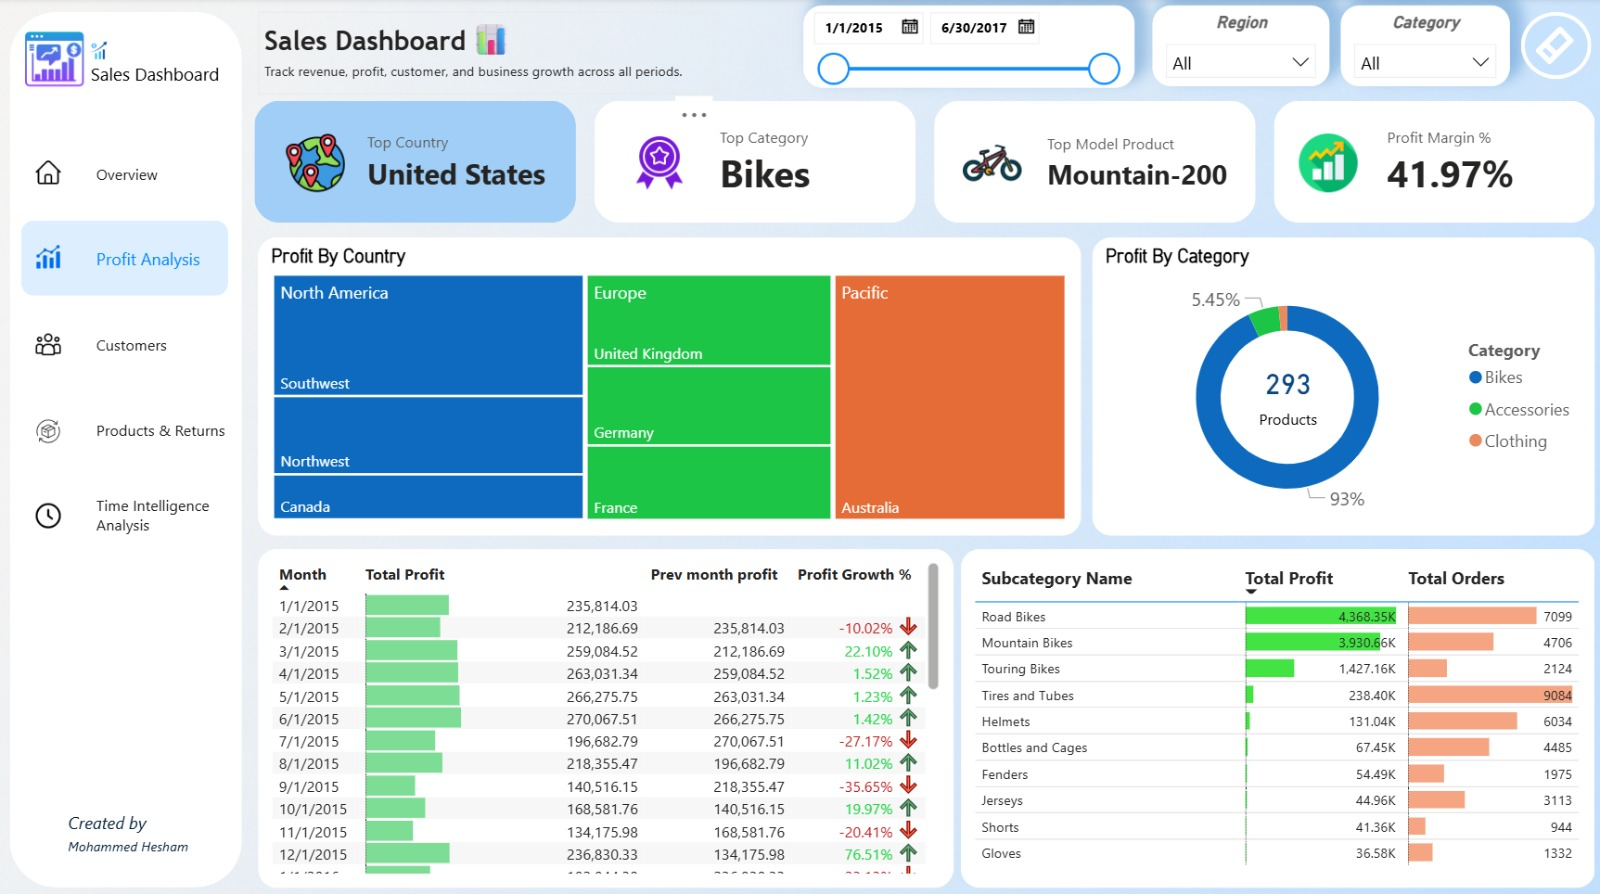

The page's visual inventory and layout, read from the dashboard file:
{"tool":"powerbi","page":{"name":"Profit Analysis","canvas":[1280,720],"ordinal":1},"visuals":[{"type":"shape","box":[8,12.1,185.1,698.9],"z":0},{"type":"cardVisual","fields":{"Data":["Sales.Top Country","Calendar.Top Category","Calendar.Top Product","Sales.Profit Margin"]},"box":[193.2,77.8,1088,107.3],"z":1000},{"type":"pageNavigator","box":[8,109.7,174.4,335.4],"z":2000},{"type":"textbox","box":[67.1,47,120.7,30.9],"z":3000},{"type":"image","box":[18.8,25.5,48.3,47],"z":4000},{"type":"image","box":[28.2,127.4,20.1,25.5],"z":5000},{"type":"image","box":[28.2,194.5,20.1,25.5],"z":6000},{"type":"image","box":[28.2,264.3,20.1,25.5],"z":7000},{"type":"image","box":[28.2,334,20.1,25],"z":8000},{"type":"image","box":[28.2,401.1,20.1,24.1],"z":9000},{"type":"textbox","box":[49.6,643.9,118.1,53.7],"z":10000},{"type":"textbox","box":[205.3,12.1,363.6,65.7],"z":11000},{"type":"image","box":[220,108.7,63.1,47],"z":12000},{"type":"image","box":[759.3,108.7,63.1,47],"z":13000},{"type":"slicer","fields":{"Values":["Calendar.Date"]},"box":[639.9,7,264.3,65.7],"z":14000},{"type":"slicer","title":"Region","fields":{"Values":["Territories.Country"]},"box":[918.7,6.5,141,64.7],"z":15000},{"type":"slicer","title":"Category","fields":{"Values":["Categories.CategoryName"]},"box":[1068.8,6.5,134.6,64.7],"z":16000},{"type":"image","box":[71.1,34.9,14.8,14.8],"z":17000},{"type":"donutChart","title":"Profit By Category","fields":{"Y":["Sales.Total Profit"],"Category":["Categories.CategoryName"]},"box":[870.6,191.8,401.1,237.4],"z":18000},{"type":"card","fields":{"Values":["Count(Products.ProductKey)"]},"box":[978.3,276.9,97,77.6],"z":19000},{"type":"treemap","title":"Profit By Country","fields":{"Values":["Sum(Sales.Profit)"],"Group":["Territories.Continent","Territories.Country"],"Details":["Territories.Region"]},"box":[205.3,191.8,656,237.4],"z":20000},{"type":"image","box":[493.7,108.7,63.1,47],"z":21000},{"type":"image","box":[1027.6,108.7,63.1,47],"z":22000},{"type":"tableEx","fields":{"Values":["Subcategories.SubcategoryName","Sum(Sales.Profit)","Sales.Total Orders"]},"box":[766,440,505.8,271],"z":23000},{"type":"tableEx","fields":{"Values":["Calendar.Start Of Month","A Measures.Total Profit","A Measures.Prev month profit","A Measures.Profit Growth %"]},"box":[205.3,440,554,271],"z":24000},{"type":"actionButton","box":[1212.3,12.1,56.3,53.6],"z":25000}]}

Visuals, with their boxes on the page's 1280x720 design canvas (x1, y1, x2, y2). These are canvas units, not pixel positions in the 1600x894 screenshot, which may show the page scaled, cropped or inside an application window:
shape: crop(8, 12, 193, 711)
cardVisual - Sales.Top Country x Calendar.Top Category: crop(193, 78, 1281, 185)
pageNavigator: crop(8, 110, 182, 445)
textbox: crop(67, 47, 188, 78)
image: crop(19, 26, 67, 72)
image: crop(28, 127, 48, 153)
image: crop(28, 194, 48, 220)
image: crop(28, 264, 48, 290)
image: crop(28, 334, 48, 359)
image: crop(28, 401, 48, 425)
textbox: crop(50, 644, 168, 698)
textbox: crop(205, 12, 569, 78)
image: crop(220, 109, 283, 156)
image: crop(759, 109, 822, 156)
slicer - Calendar.Date: crop(640, 7, 904, 73)
"Region" slicer: crop(919, 6, 1060, 71)
"Category" slicer: crop(1069, 6, 1203, 71)
image: crop(71, 35, 86, 50)
"Profit By Category" donutChart: crop(871, 192, 1272, 429)
card - Count(Products.ProductKey): crop(978, 277, 1075, 354)
"Profit By Country" treemap: crop(205, 192, 861, 429)
image: crop(494, 109, 557, 156)
image: crop(1028, 109, 1091, 156)
tableEx - Subcategories.SubcategoryName x Sum(Sales.Profit): crop(766, 440, 1272, 711)
tableEx - Calendar.Start Of Month x A Measures.Total Profit: crop(205, 440, 759, 711)
actionButton: crop(1212, 12, 1269, 66)
